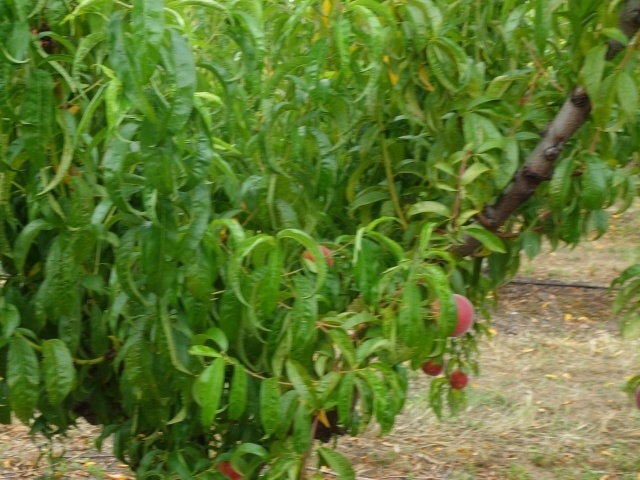peach: (427, 292, 479, 340), (302, 241, 338, 273), (418, 351, 445, 381), (445, 367, 470, 395)
